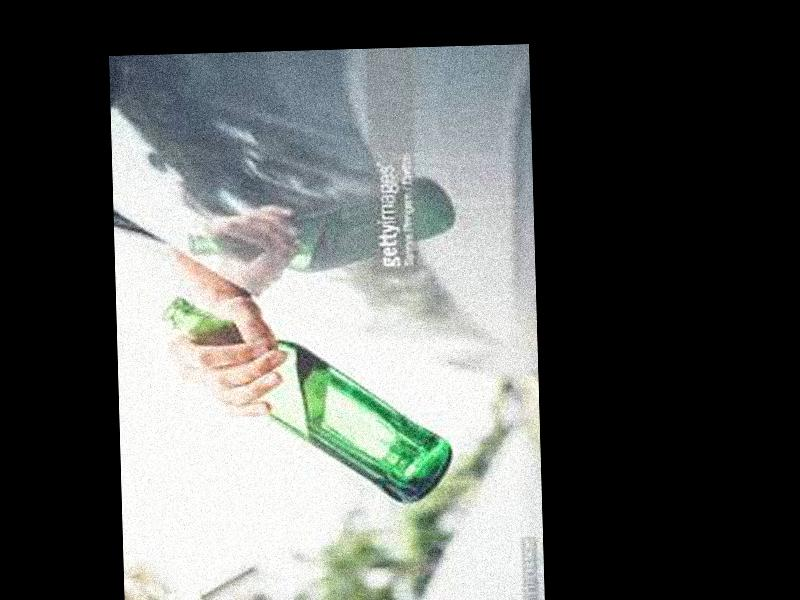Beer: (166, 286, 452, 510)
